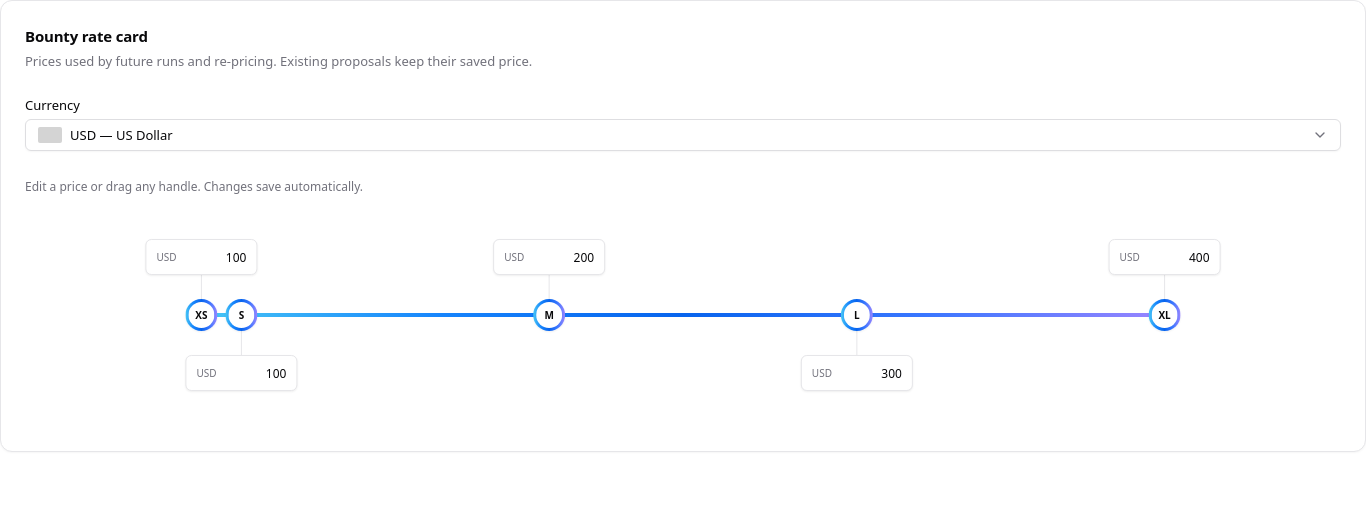
Scenario: revision conflicts reload the latest rates and keep an explanation visible
The width and height of the screenshot is (1366, 527).
Step 1. Clear the field named "XL rate" → (1178, 257), box [1146, 240, 1210, 274]
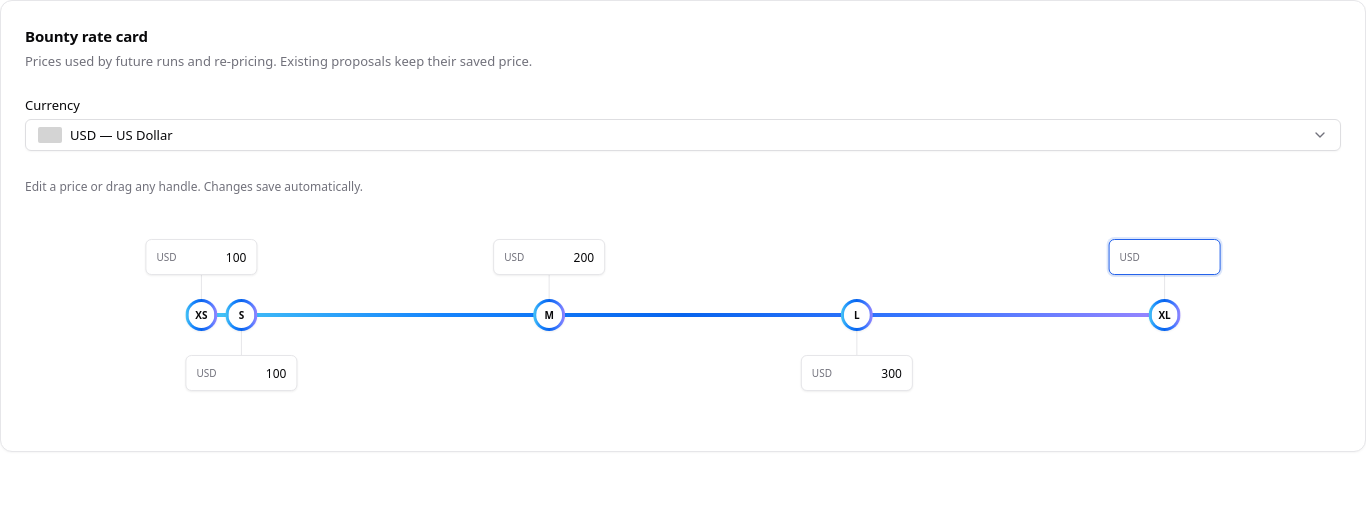
Step 2. Type keys "700"
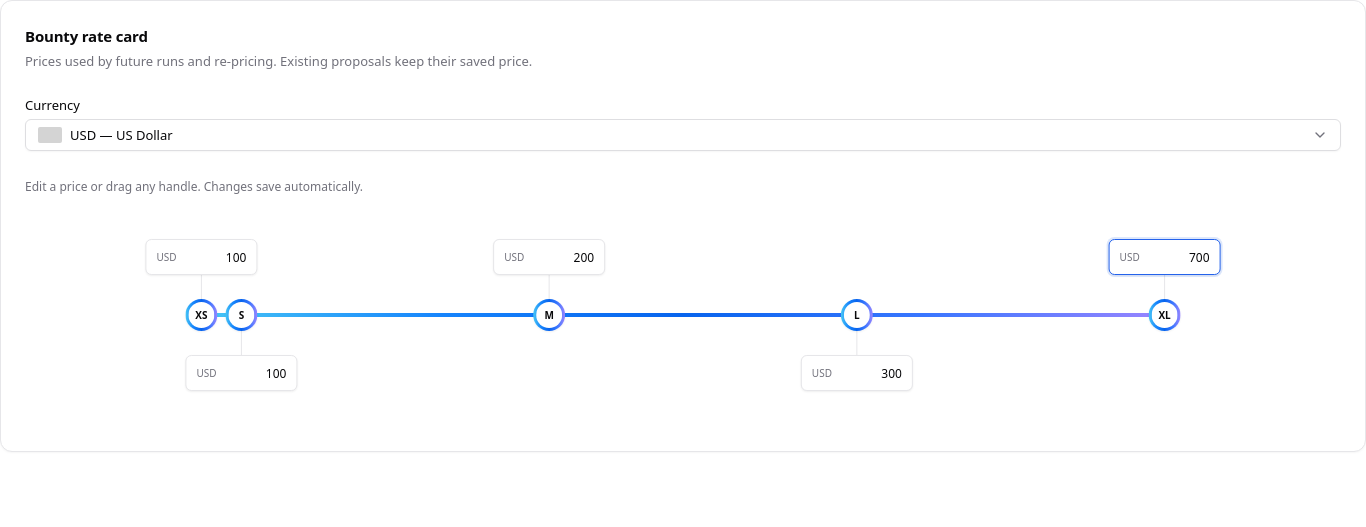
Step 3. Press Enter
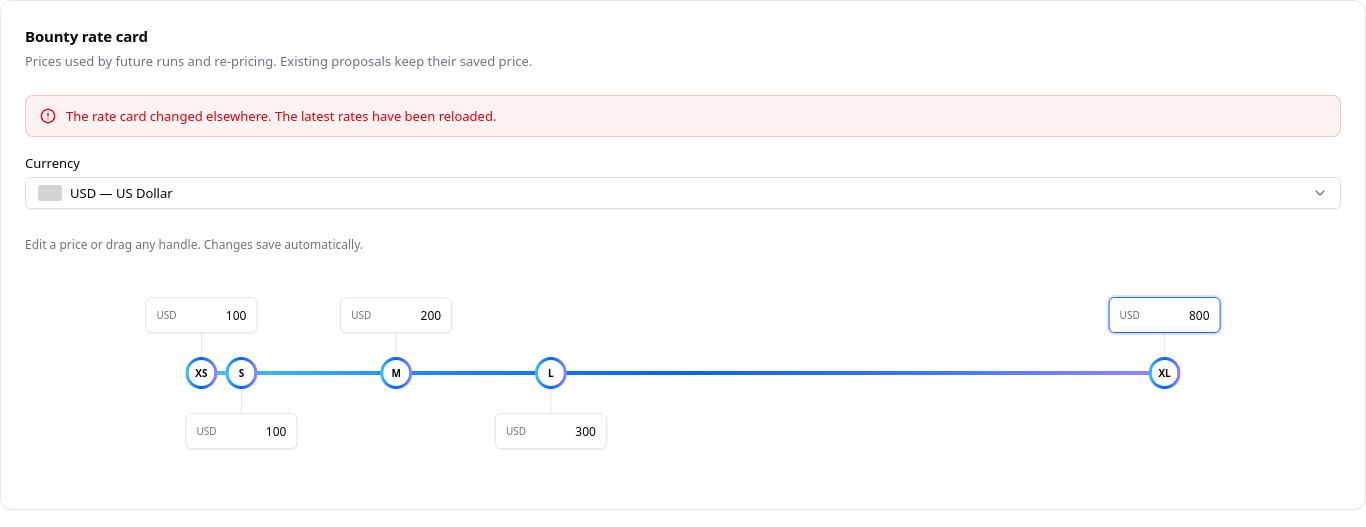
Result: the text "The rate card changed elsewhere. The latest rates have been reloaded." is shown at [66, 107, 496, 125]
